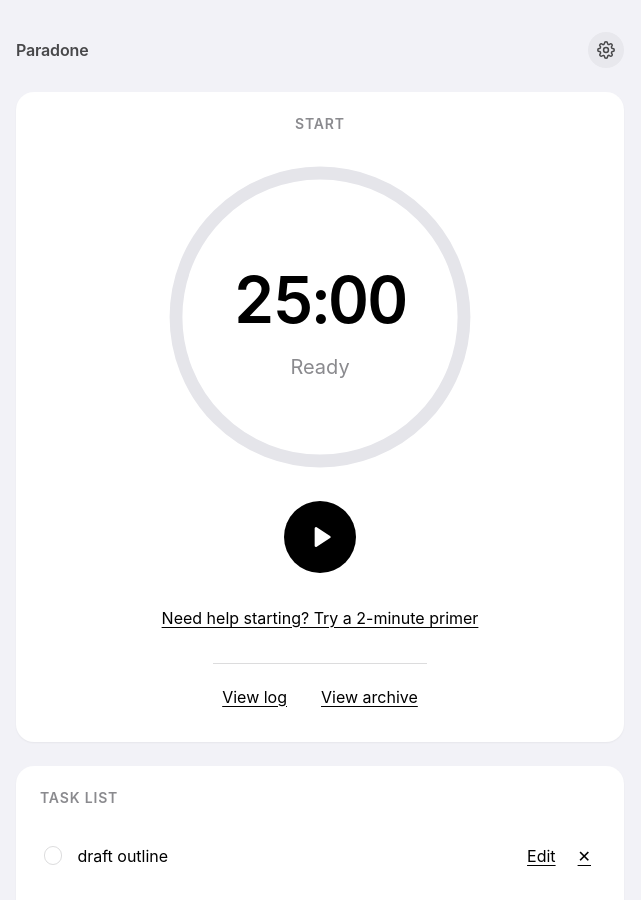
adding tasks during an active session › logs typed-done work as a checked task, mid-block
Click the button without text below "Ready" at (320, 537), box left=284, top=501, right=356, bottom=573
(page scrolled)
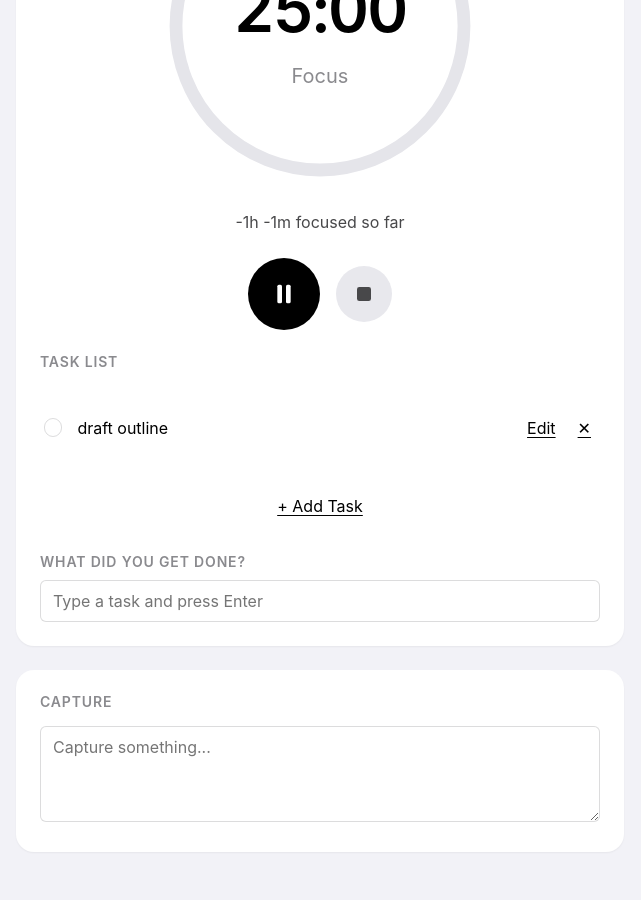
Type "answered support mail" into the field with id "active-done" at (320, 601), box left=40, top=580, right=600, bottom=622
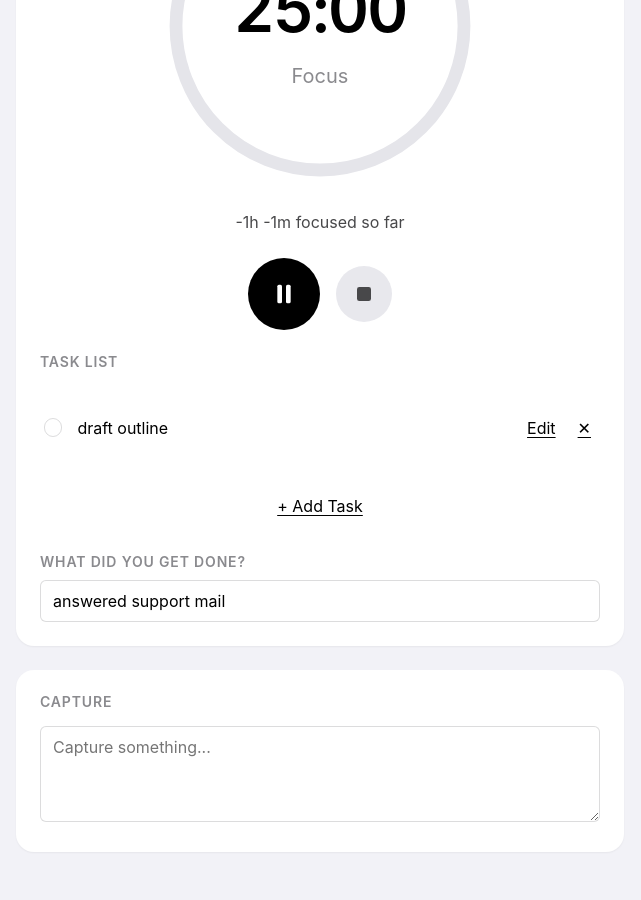
Press Enter in the field with id "active-done", box left=40, top=580, right=600, bottom=622
(page scrolled)
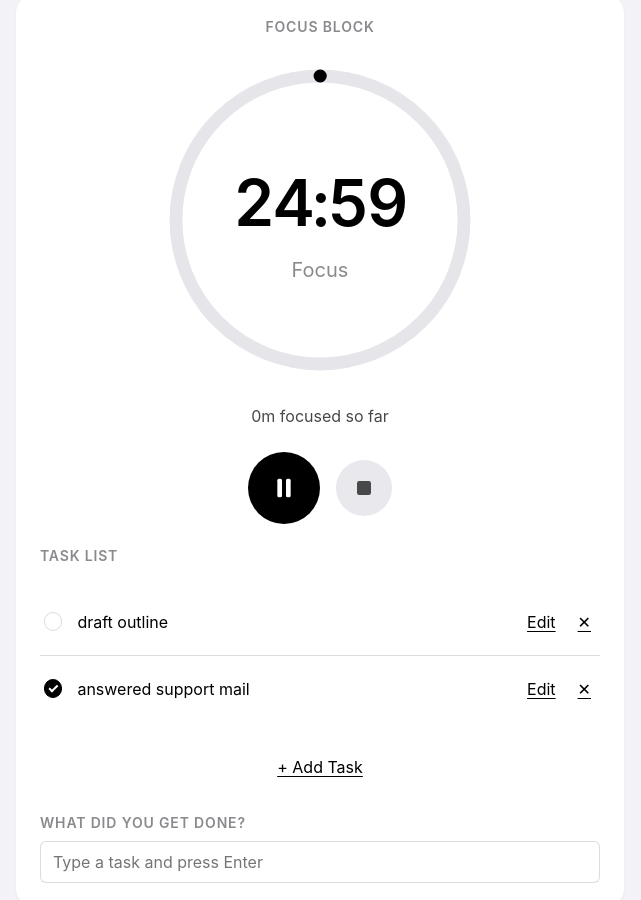
Check: the number of checkboxes is 2, box left=44, top=612, right=62, bottom=631; left=44, top=679, right=62, bottom=698
Check: the checkbox labelled "answered support mail" is checked, box left=44, top=679, right=62, bottom=698
Check: the element that starts with "Focus block" shows "answered support mail", box left=77, top=679, right=250, bottom=699
